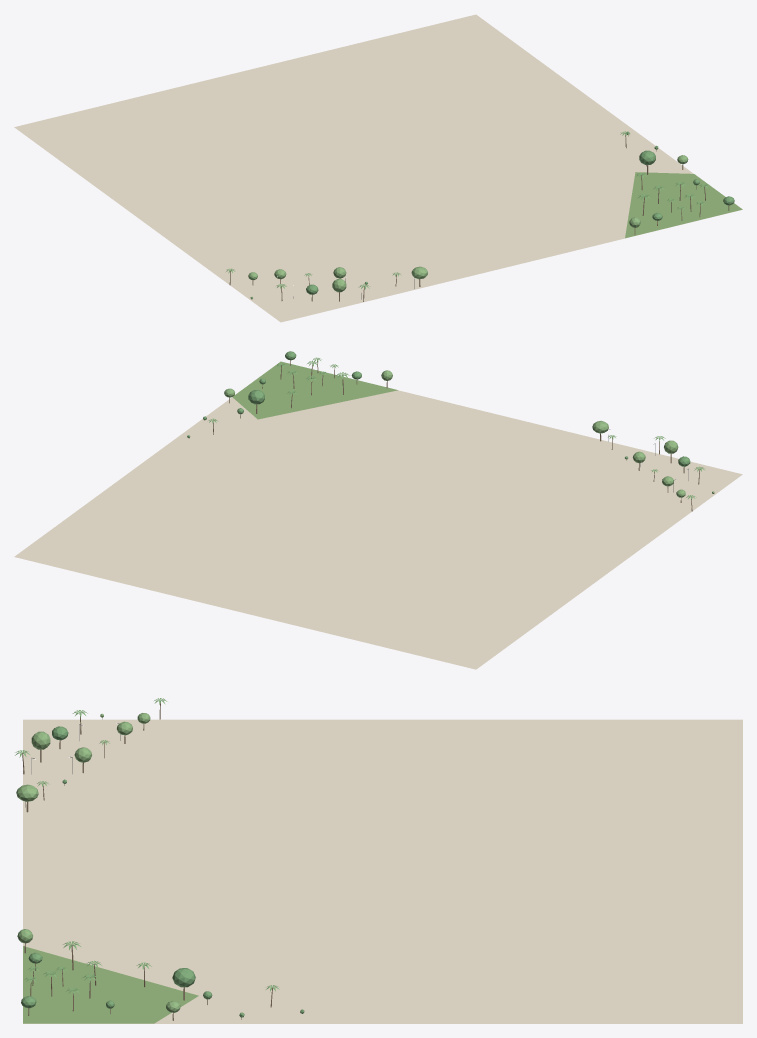
Rendered from nature_-6_-5.glb.
3 views of the same model, one above another, from view 1: azimuth 30°, elevation 25°; view 2: azimuth 150°, elevation 25°; view 3: azimuth 270°, elevation 25° (orthographic). The views are drawn at different scales.
Visible parts, largest first — view 1: ground, grass, foliage_b, foliage_a; view 2: ground, grass, foliage_b, foliage_a; view 3: ground, grass, foliage_b, foliage_a, palm_leaf, trunk.
Boxes of the visible parts, x1=… form: ground: x1=14, y1=14, x2=742, y2=322; grass: x1=625, y1=172, x2=742, y2=238; foliage_b: x1=248, y1=155, x2=688, y2=299; foliage_a: x1=306, y1=131, x2=734, y2=294; ground: x1=14, y1=390, x2=742, y2=669; grass: x1=232, y1=361, x2=397, y2=419; foliage_b: x1=224, y1=370, x2=714, y2=497; foliage_a: x1=187, y1=351, x2=690, y2=466; ground: x1=23, y1=719, x2=742, y2=1023; grass: x1=23, y1=946, x2=198, y2=1023; foliage_b: x1=16, y1=713, x2=180, y2=1012; foliage_a: x1=21, y1=726, x2=304, y2=1017; palm_leaf: x1=15, y1=698, x2=279, y2=994; trunk: x1=22, y1=702, x2=272, y2=1020.
Size of the model in its own units: 252 by 12.06 by 253.
